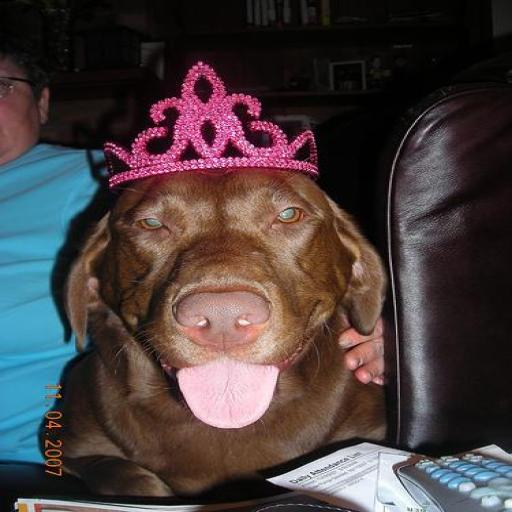dog_face: (89, 152, 375, 390)
